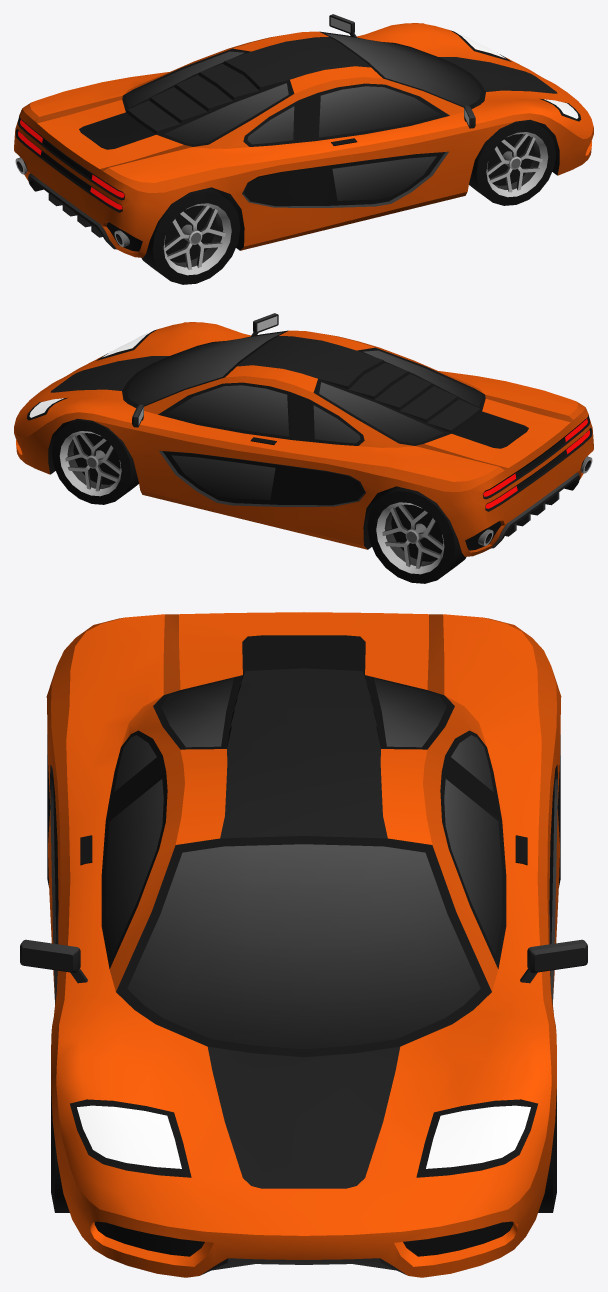
The model's file is Car_104.glb.
The picture shows the model from 3 angles, top to bottom: view 1: azimuth 30°, elevation 25°; view 2: azimuth 150°, elevation 25°; view 3: azimuth 270°, elevation 25°; orthographic projection. The views are drawn at different scales.
Visible parts, largest first — view 1: Car_104, wheel_3_Car_104_Wheel_2R, wheel_1_Car_104_Wheel_1R; view 2: Car_104, wheel_2_Car_104_Wheel_2L, wheel_0_Car_104_Wheel_1L; view 3: Car_104.
Part boxes in pixels (left/top/right/bottom): Car_104: left=14, top=14, right=593, bottom=257; wheel_3_Car_104_Wheel_2R: left=141, top=187, right=240, bottom=284; wheel_1_Car_104_Wheel_1R: left=469, top=119, right=555, bottom=205; Car_104: left=14, top=313, right=593, bottom=556; wheel_2_Car_104_Wheel_2L: left=367, top=486, right=466, bottom=583; wheel_0_Car_104_Wheel_1L: left=52, top=418, right=138, bottom=504; Car_104: left=20, top=612, right=587, bottom=1277.
Size of the model in its own units: 4.57 by 1.22 by 2.22.
Materials: 2 (2 with a texture image).
